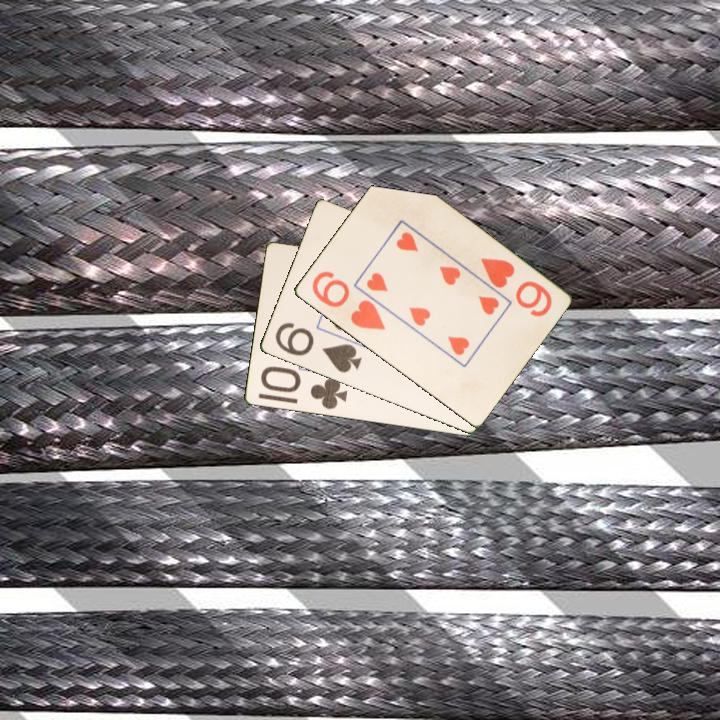10c: (257, 365, 350, 413)
6h: (308, 267, 388, 333), (476, 254, 555, 320)
6s: (271, 319, 364, 376)
